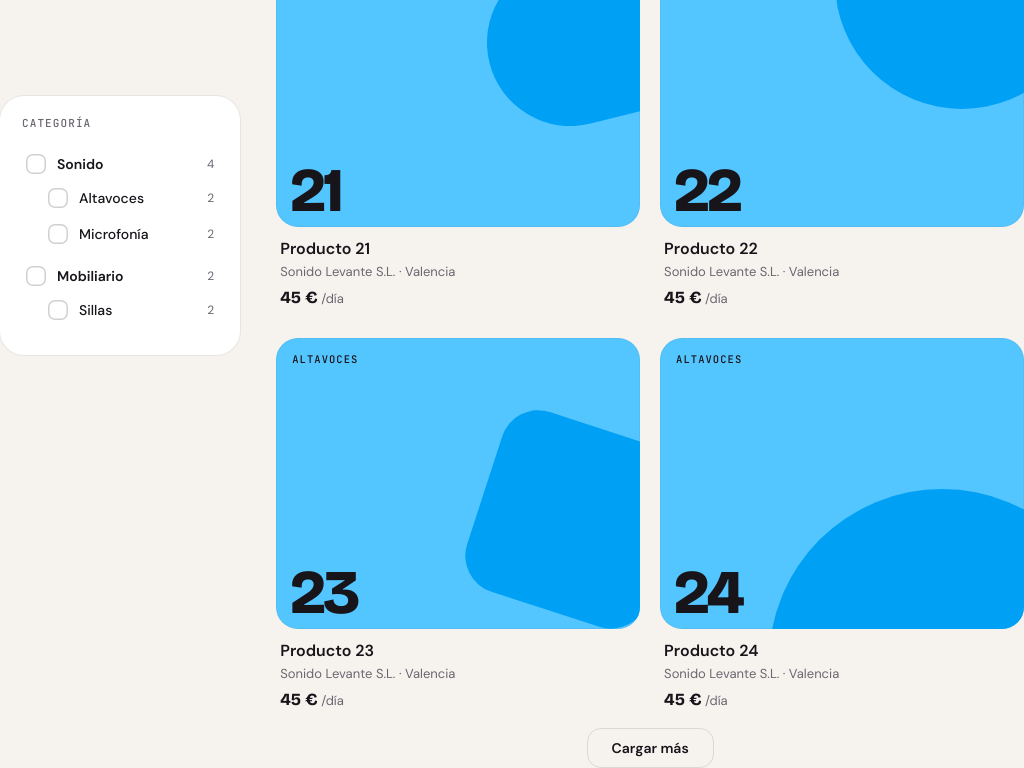
Test: Catalog › "Cargar más" afegeix la pàgina següent a la llista
(page scrolled)
Step 1. Click the button "Cargar más" → {"x": 650, "y": 748}, box left=586, top=728, right=714, bottom=767
(page scrolled)
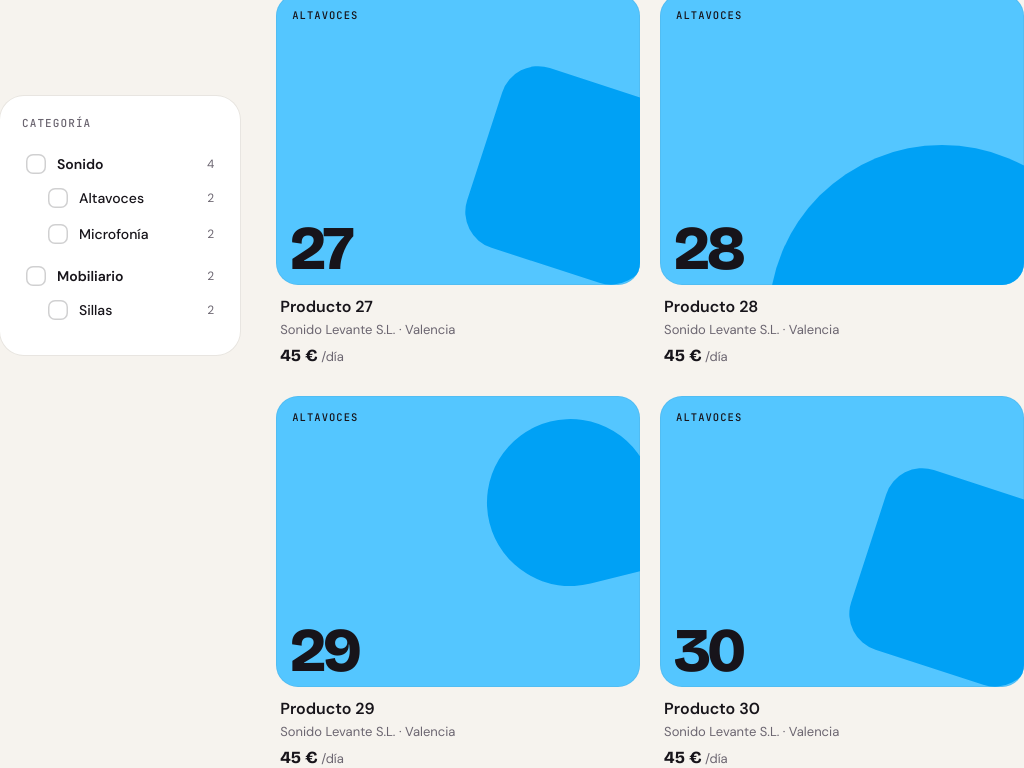
Now the heading "Producto 30" is shown, box left=664, top=698, right=760, bottom=719
Now the button "Cargar más" is gone
